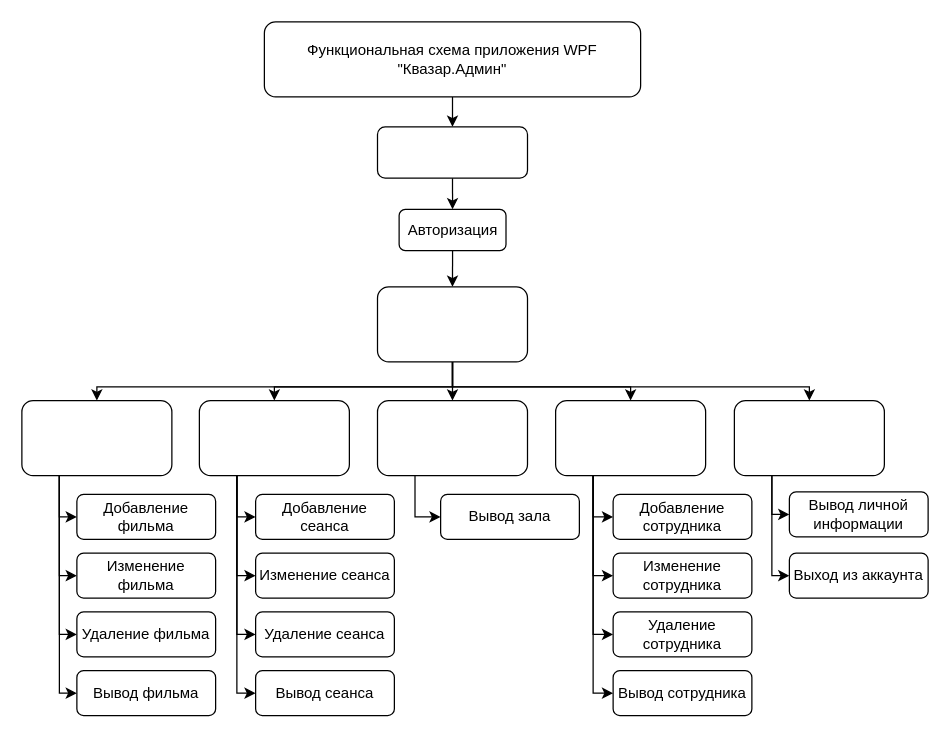
This 950x738 diagram has some shape labels left out. Here are the shapes that lost their labels. From the top down, the centre of each, then its label:
(452,152): Окно авторизации
(452,324): Окно навигации
(96,437): Страница "Фильмы"
(273,437): Страница "Сеансы"
(452,437): Страница "Залы"
(630,437): Страница "Сотрудники"
(808,437): Страница "Профиль"
